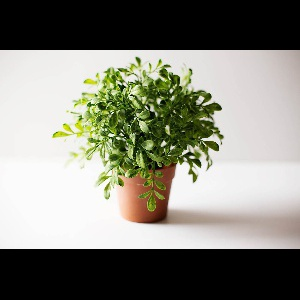flowerpot: (107, 148, 179, 227)
